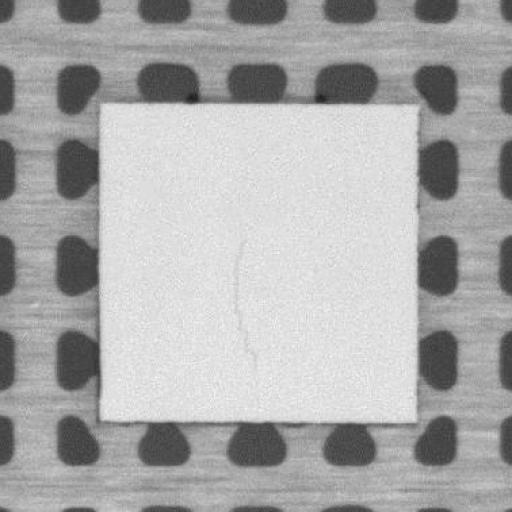DIE_CRACK: (232, 238, 257, 376)
